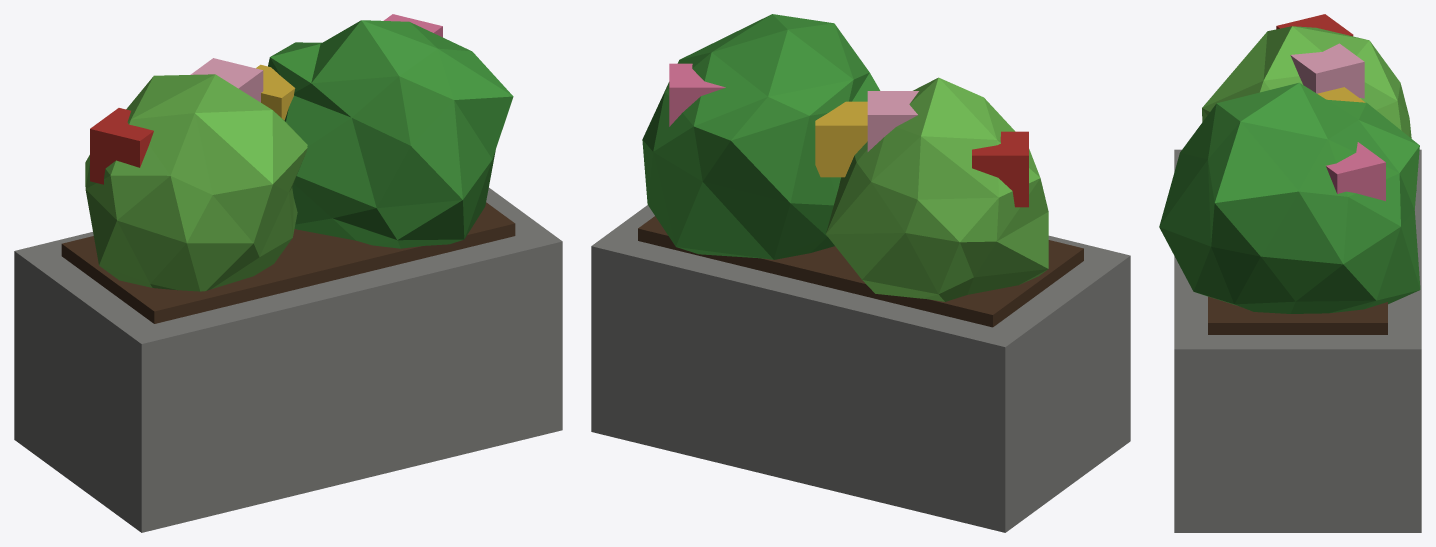
File: Scatter_PlanterBox.fbx
3 renders of one model, left to right at view 1: azimuth 30°, elevation 25°; view 2: azimuth 150°, elevation 25°; view 3: azimuth 270°, elevation 25°, orthographic. The views are drawn at different scales.
Visible parts, largest first — view 1: PlanterBox; view 2: PlanterBox; view 3: PlanterBox.
Boxes of the visible parts, x1,y1,x2,y2 form: PlanterBox: [14, 14, 562, 532]; PlanterBox: [591, 14, 1130, 532]; PlanterBox: [1159, 14, 1421, 532].
Bounding box in the file's own units: 4.2 × 3.78 × 2.33.
